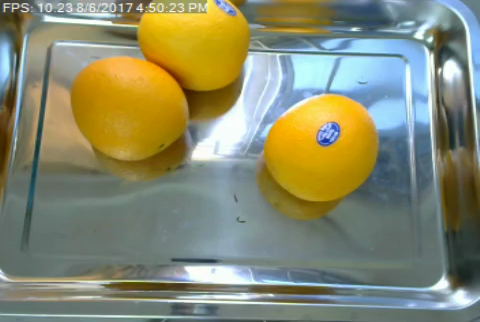Orange: (263, 92, 380, 202), (69, 55, 189, 162), (136, 0, 251, 90)
